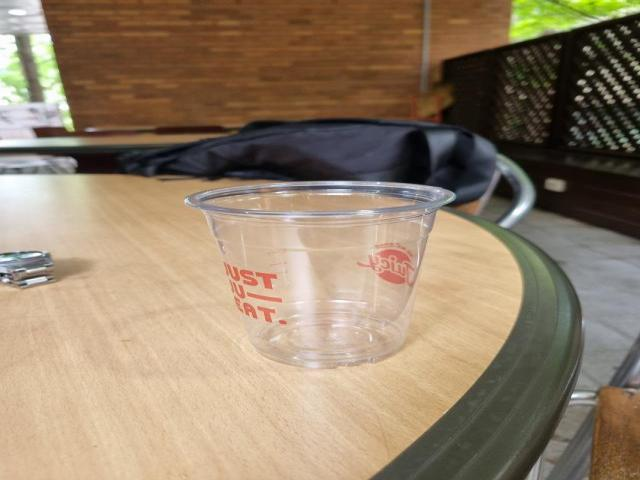cup: (174, 177, 472, 376)
